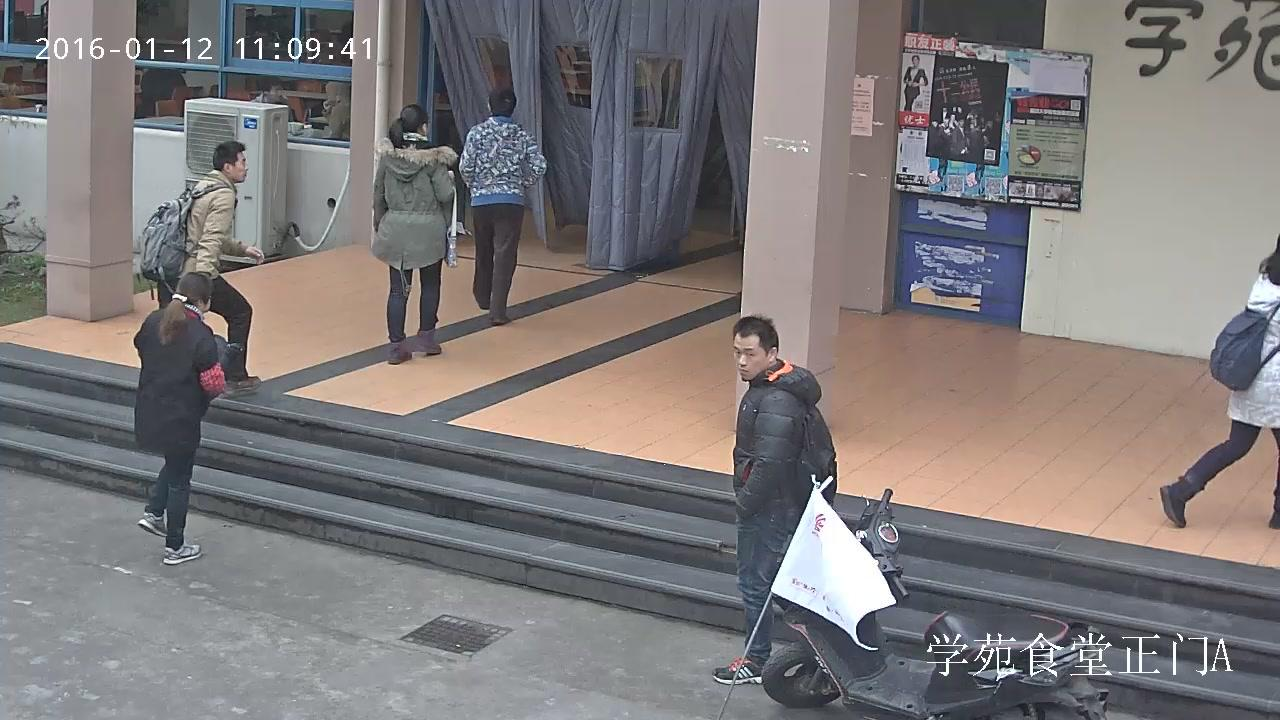person: (711, 315, 836, 685), (1159, 232, 1280, 529), (140, 140, 264, 391), (132, 270, 224, 564), (371, 104, 458, 364), (459, 88, 545, 324), (323, 81, 351, 140), (904, 54, 927, 112)
